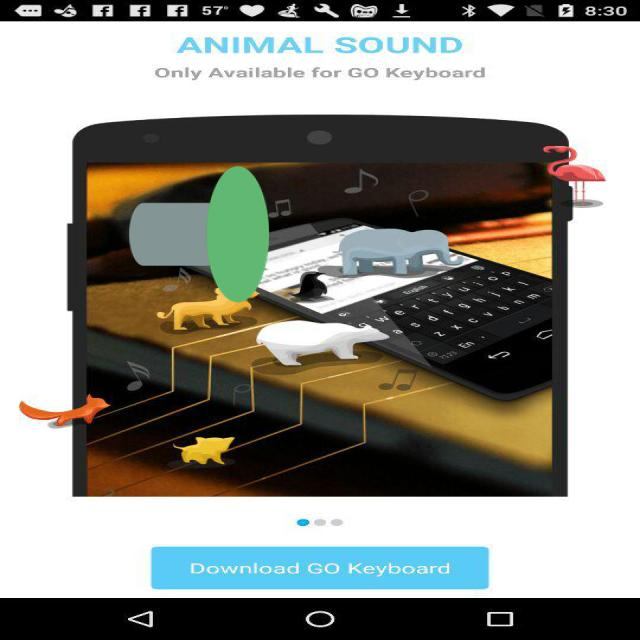social proof: (129, 83, 269, 386)
